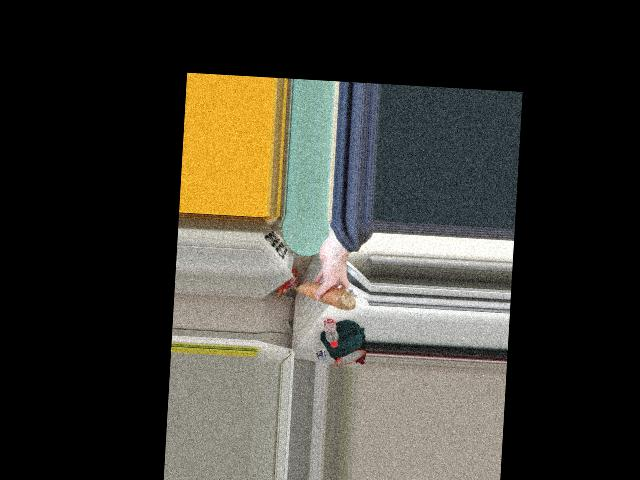sweet_potato: (292, 284, 356, 306)
